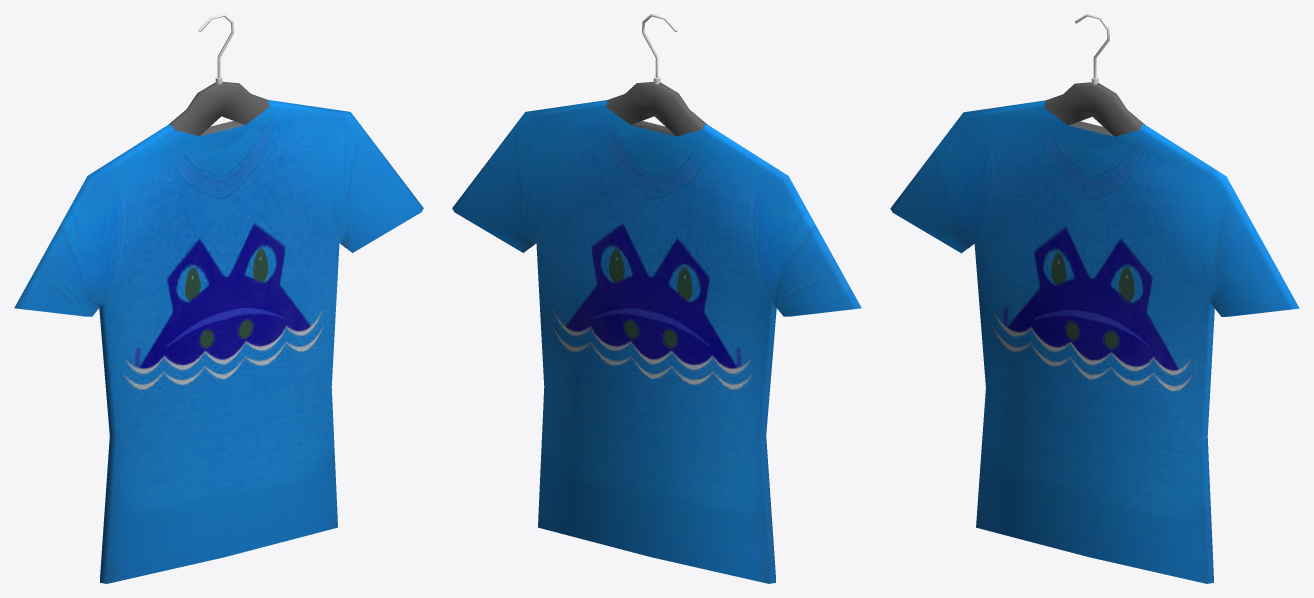
Rendered from Product_TShirtchildren.FBX.
The picture shows the model from 3 angles, left to right: view 1: azimuth 30°, elevation 25°; view 2: azimuth 150°, elevation 25°; view 3: azimuth 330°, elevation 25°; orthographic projection.
Parts seen in each view (by area): view 1: Product_TShirchildren_LOD_001; view 2: Product_TShirchildren_LOD_001; view 3: Product_TShirchildren_LOD_001.
Boxes of the visible parts, box(x1,y1,x2,y2) form: Product_TShirchildren_LOD_001: box(14, 14, 423, 583); Product_TShirchildren_LOD_001: box(452, 14, 861, 583); Product_TShirchildren_LOD_001: box(890, 14, 1299, 583).
Bounding box in the file's own units: 0.4842 × 0.6074 × 0.0228.
